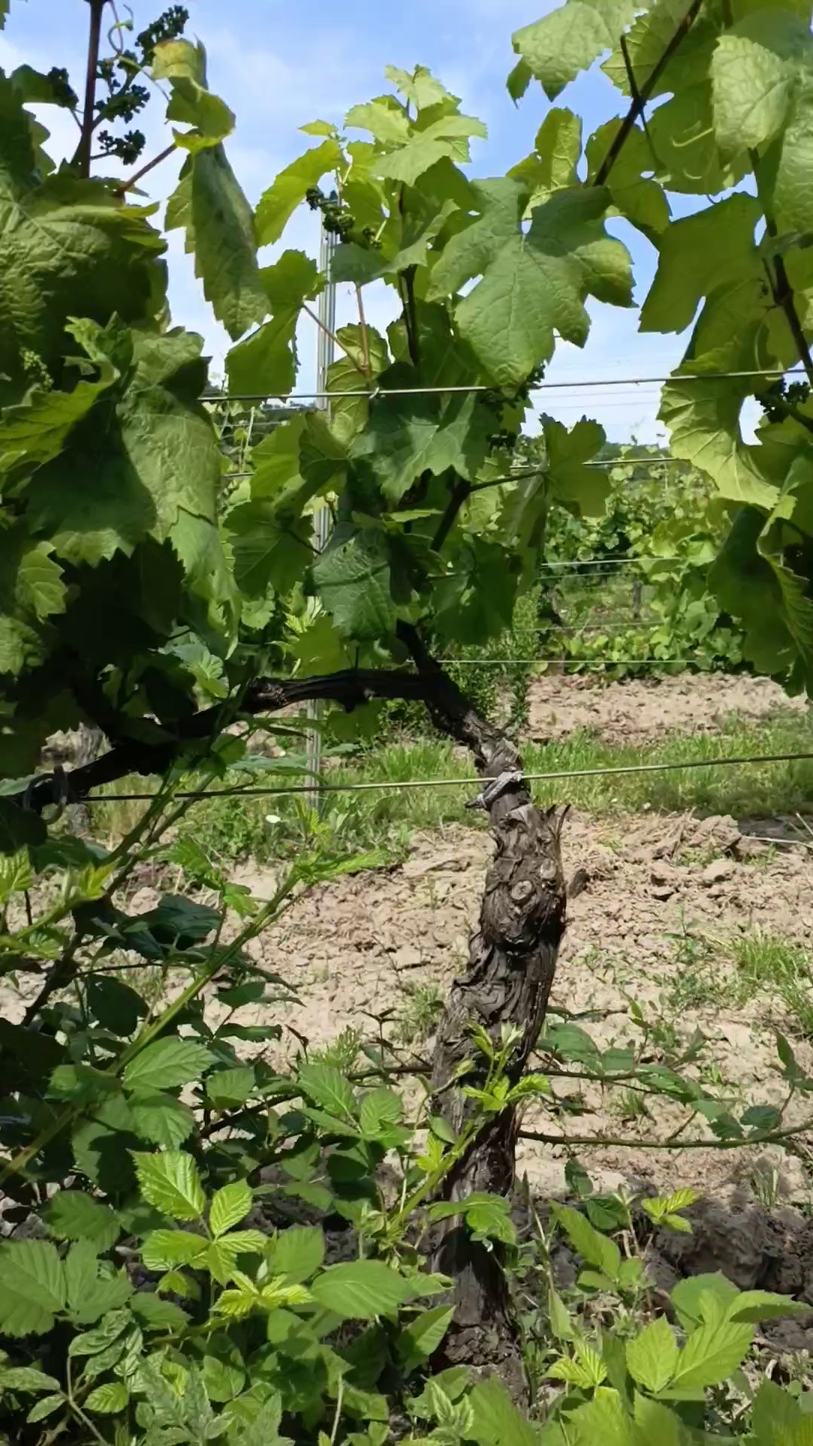vine_trunk: (406, 634, 568, 1132), (432, 1224, 523, 1391), (439, 1106, 517, 1202)
